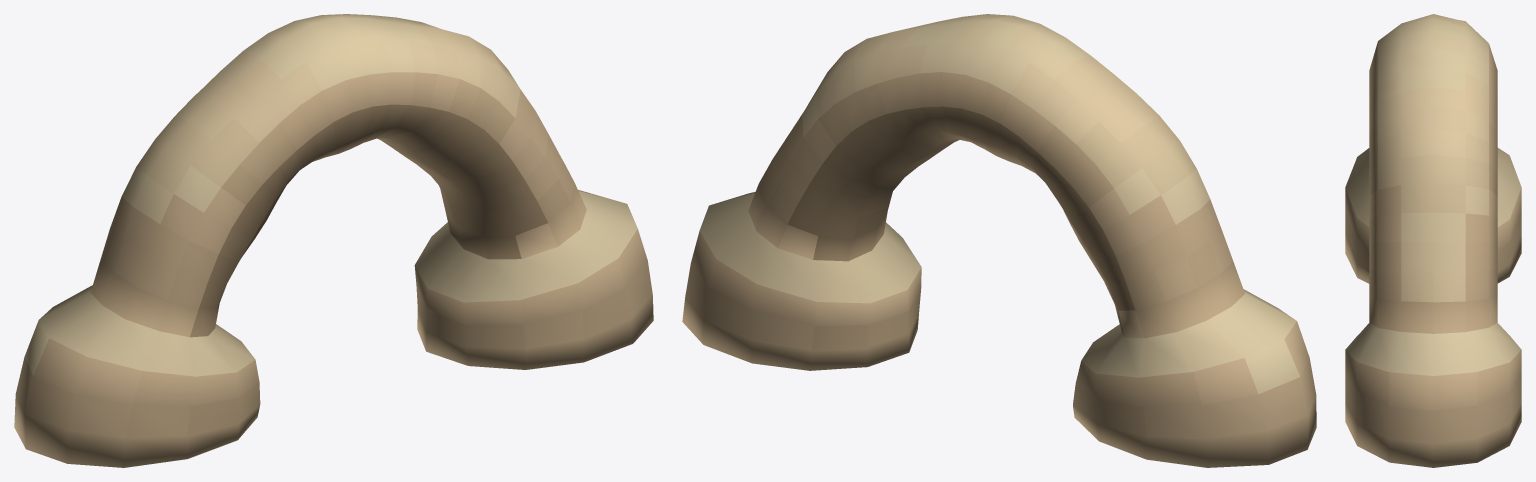
File: Sandstone_Arch.glb
3 views of the same model, side by side, from view 1: azimuth 30°, elevation 25°; view 2: azimuth 150°, elevation 25°; view 3: azimuth 270°, elevation 25° (orthographic). The views are drawn at different scales.
Visible parts, largest first — view 1: SandstoneArch; view 2: SandstoneArch; view 3: SandstoneArch.
Part boxes in pixels (<box>): SandstoneArch: <box>14,14,653,467</box>; SandstoneArch: <box>682,14,1316,467</box>; SandstoneArch: <box>1345,14,1521,467</box>.
Size of the model in its own units: 3.87 by 2.13 by 1.1.
